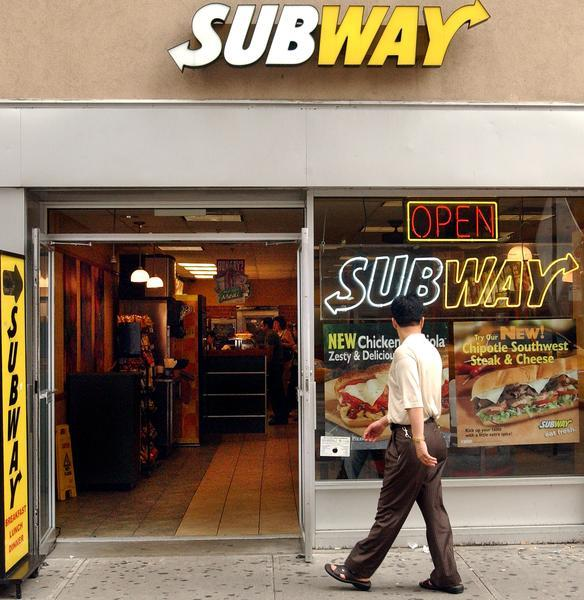subway_food: (163, 4, 495, 80)
